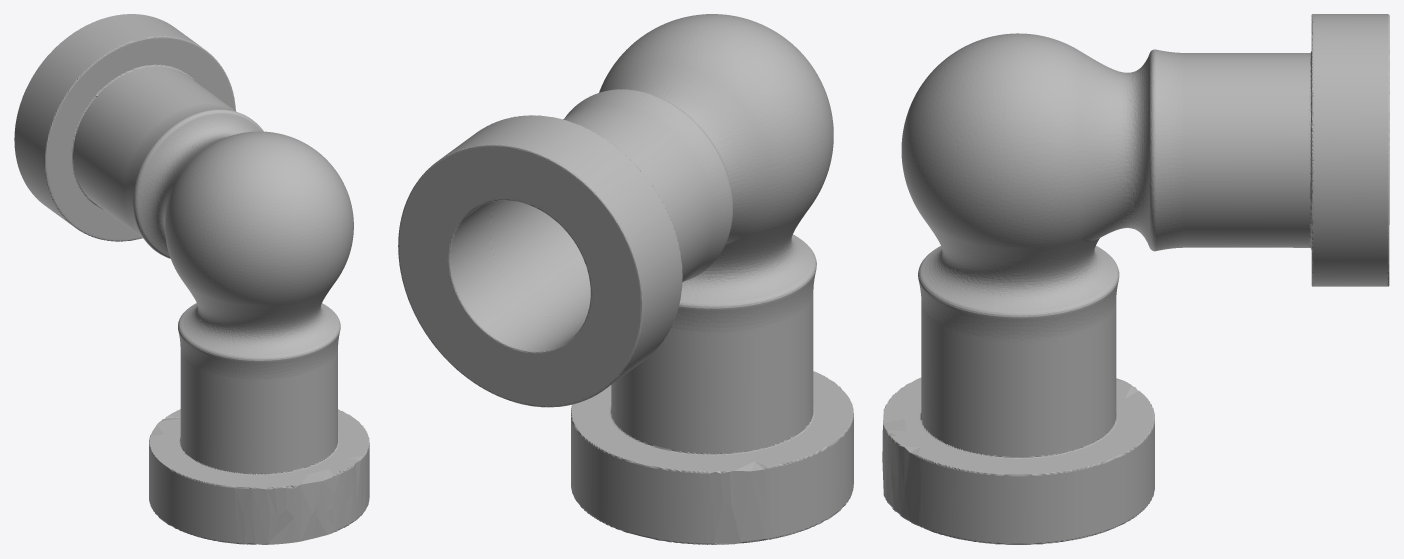
File: Pipe8.fbx
3 views of the same model, side by side, from view 1: azimuth 30°, elevation 25°; view 2: azimuth 150°, elevation 25°; view 3: azimuth 270°, elevation 25° (orthographic). The views are drawn at different scales.
Parts seen in each view (by area): view 1: Pipe8; view 2: Pipe8; view 3: Pipe8.
Boxes of the visible parts, box(x1,y1,x2,y2) form: Pipe8: box(14, 14, 369, 544); Pipe8: box(398, 14, 853, 544); Pipe8: box(882, 14, 1389, 544).
Bounding box in the file's own units: 199 × 371 × 370.
